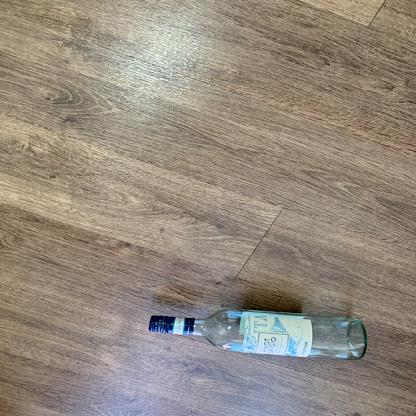trash: (135, 308, 371, 364)
